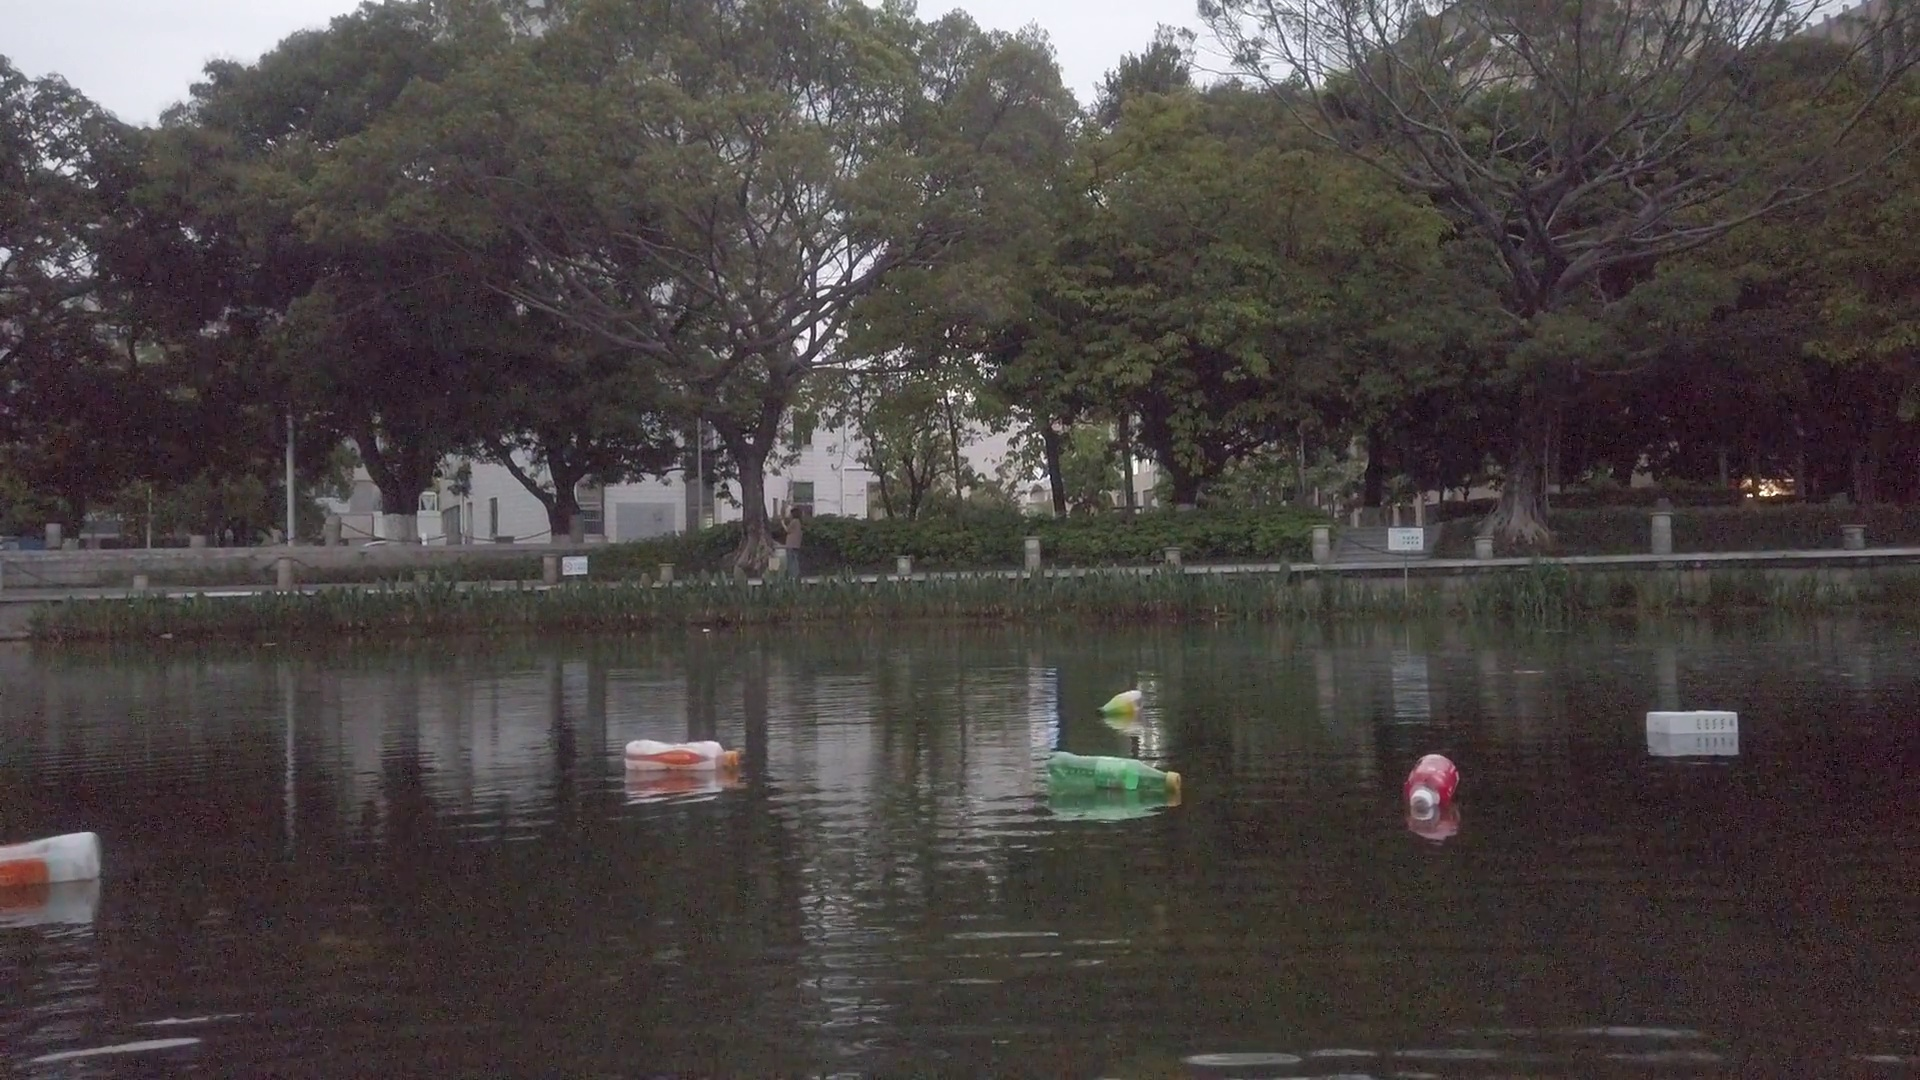bottle: (1044, 746, 1183, 795), (3, 833, 102, 887), (622, 738, 737, 773), (1404, 752, 1461, 818), (1097, 682, 1145, 720)
carton: (1647, 709, 1741, 735)
